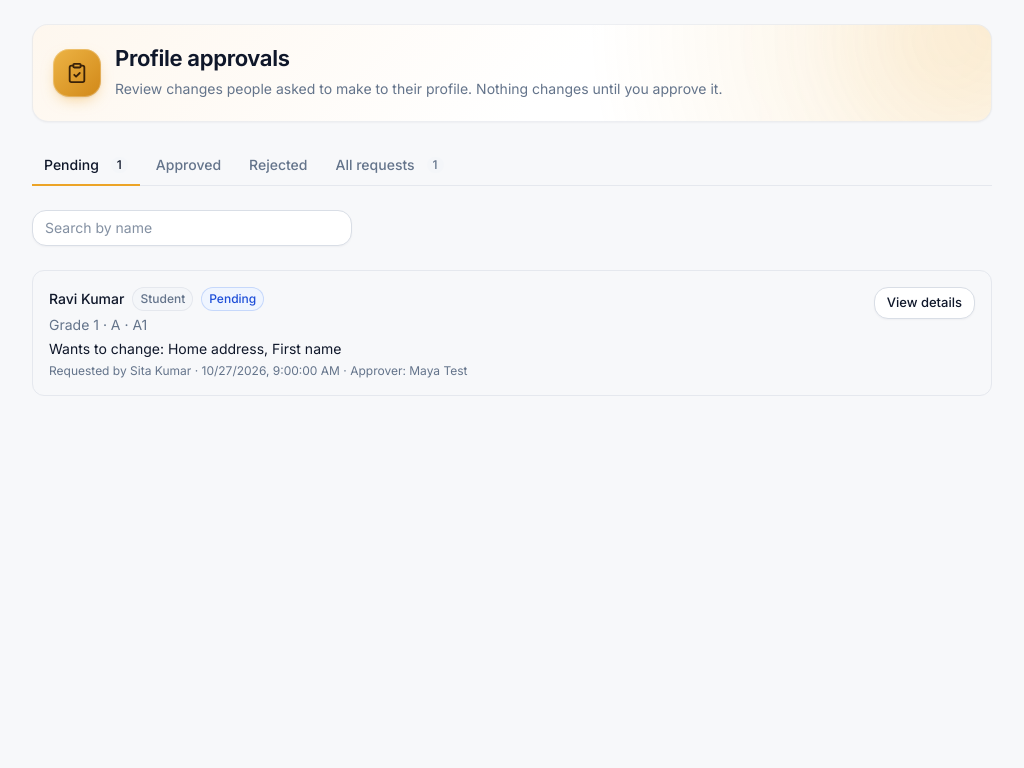
Test: Profile approvals › keeps the request open and shows the server's message when approval is refused
What coordinates should you click on to do the following:
click the button "View details"
I would click on:
 (924, 302)
Its box is [874,286,975,318].
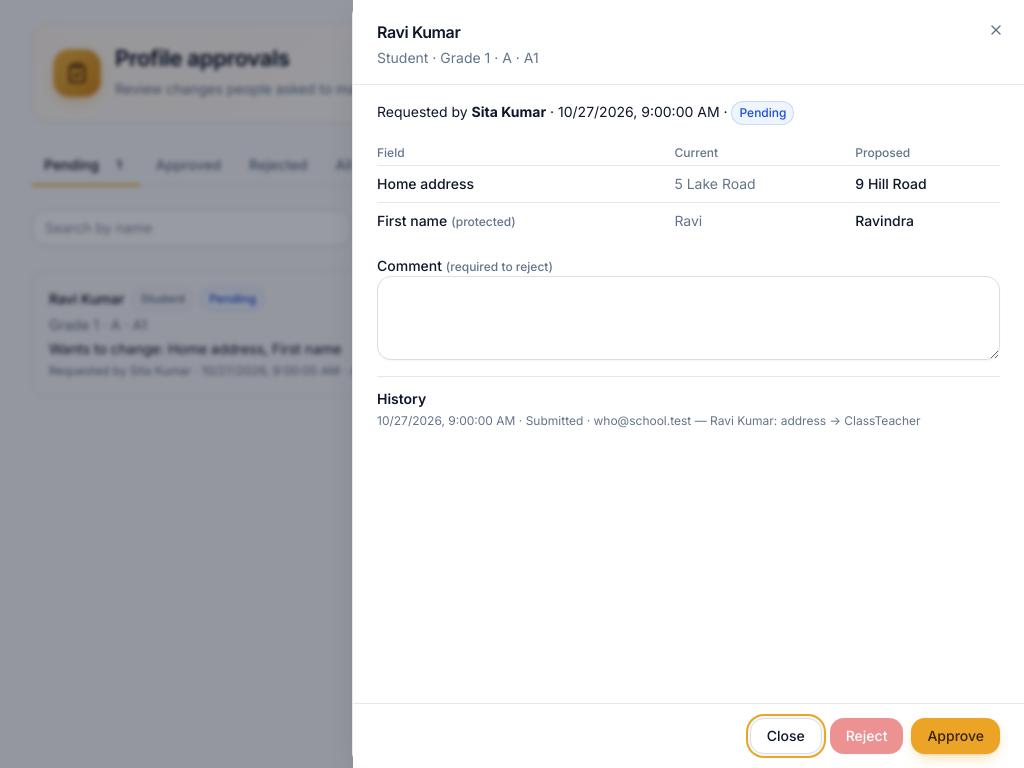
What coordinates should you click on to do the following:
click the button "Approve"
I would click on:
 (956, 736)
Its box is [911,718,1000,754].
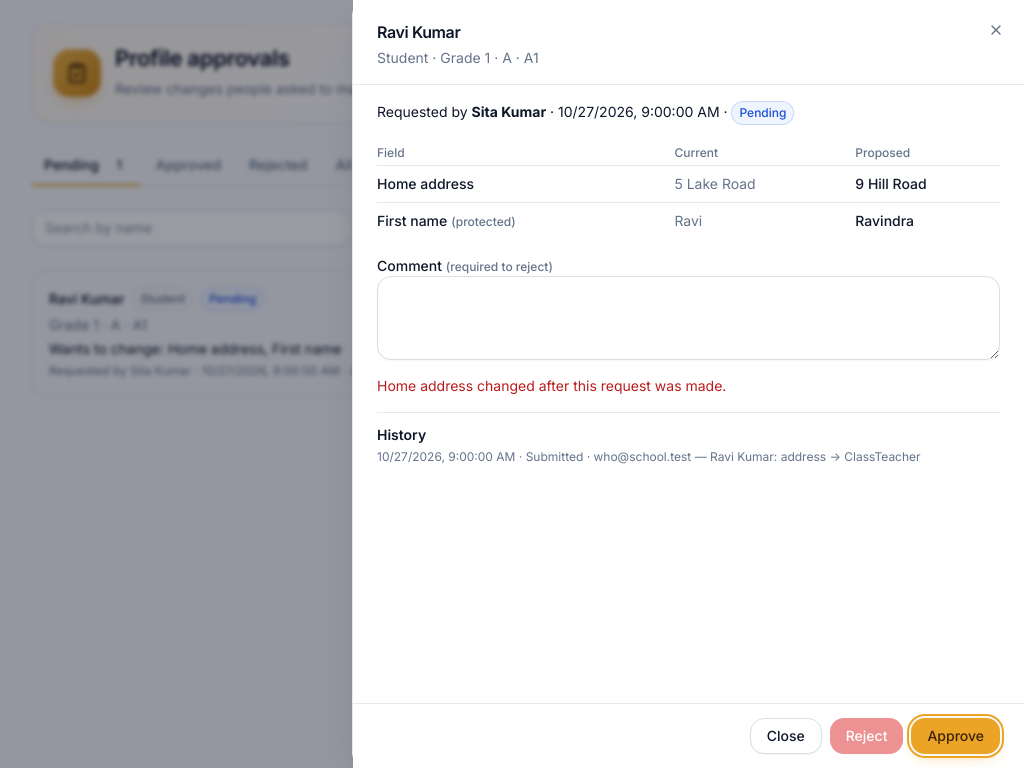
Expected: the dialog is shown
Expected: the message shows "changed after this request", [377,377,726,394]
